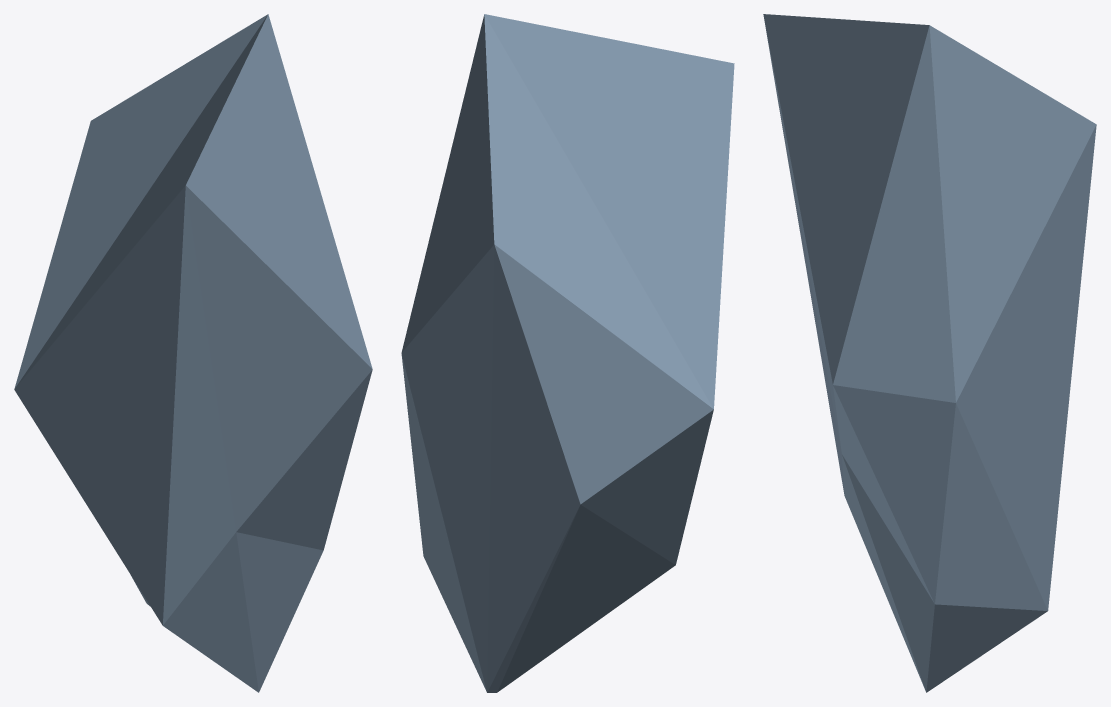
Rendered from Rock_2.fbx.
3 views of the same model, side by side, from view 1: azimuth 30°, elevation 25°; view 2: azimuth 150°, elevation 25°; view 3: azimuth 270°, elevation 25° (orthographic).
Visible parts, largest first — view 1: M_Rock 2; view 2: M_Rock 2; view 3: M_Rock 2.
Boxes of the visible parts, x1,y1,x2,y2 form: M_Rock 2: (14,14,372,692); M_Rock 2: (401,14,734,692); M_Rock 2: (763,14,1096,692).
Size of the model in its own units: 1.47 by 3.05 by 1.37.
Materials: 1 (1 with a texture image).
